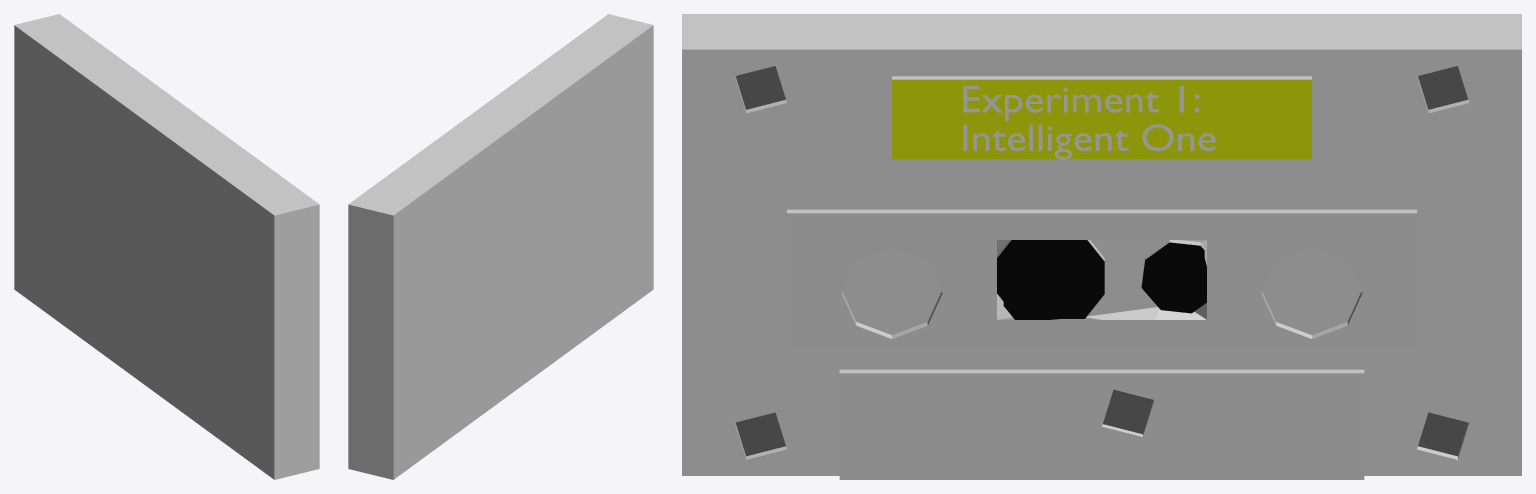
The model's file is Experiment 1.fbx.
3 views of the same model, side by side, from view 1: azimuth 30°, elevation 25°; view 2: azimuth 150°, elevation 25°; view 3: azimuth 270°, elevation 25° (orthographic). The views are drawn at different scales.
Parts seen in each view (by area): view 1: Cube; view 2: Cube; view 3: Cube, Text.
Part boxes in pixels (x1,y1,x2,y2): Cube: [14, 14, 319, 479]; Cube: [348, 14, 653, 479]; Cube: [682, 14, 1521, 479]; Text: [963, 86, 1215, 159].
Size of the model in its own units: 65.87 by 331 by 591.
